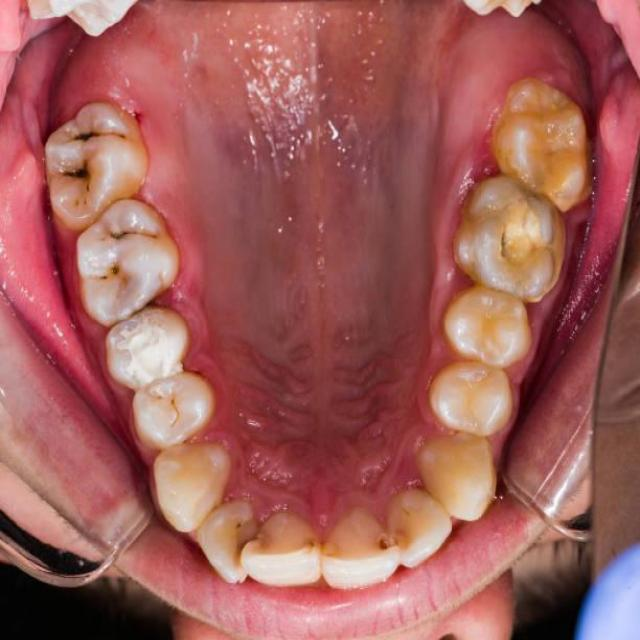caries: (222, 505, 298, 577), (59, 106, 129, 162), (374, 520, 436, 574), (95, 208, 165, 255), (50, 153, 109, 207), (89, 257, 135, 296)
